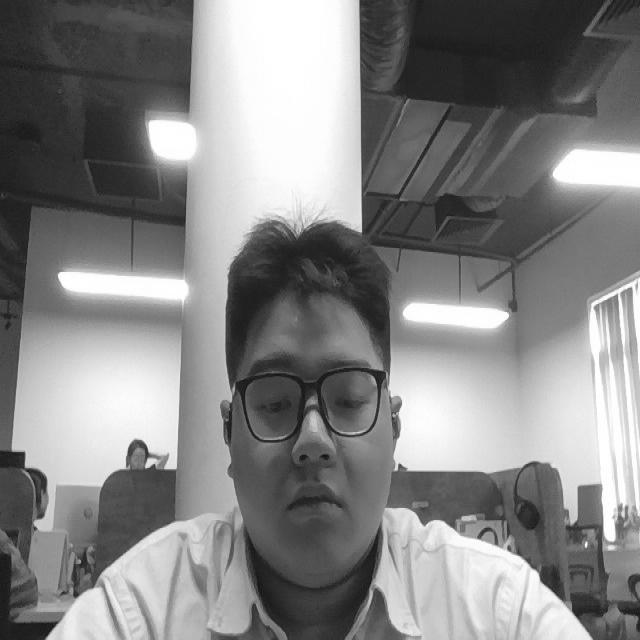real: (197, 184, 427, 604), (229, 386, 389, 441)
